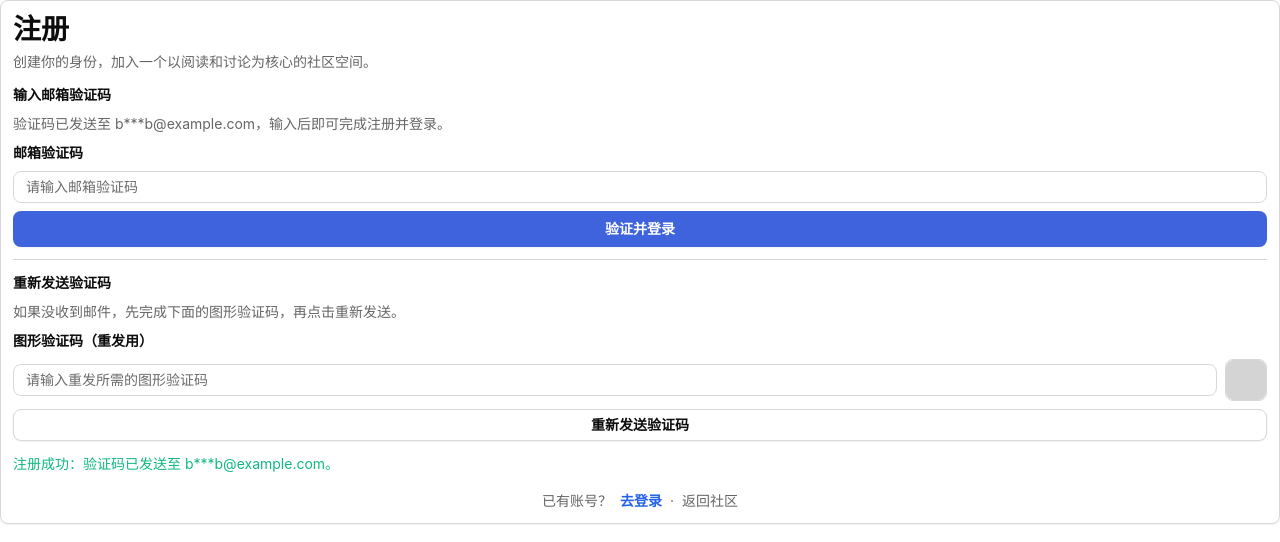
RegisterView › re-enables the verify and resend buttons when session restore reports anonymous
Type "123456" into the field with placeholder "请输入邮箱验证码". click: (640, 187)
box: [13, 171, 1267, 203]
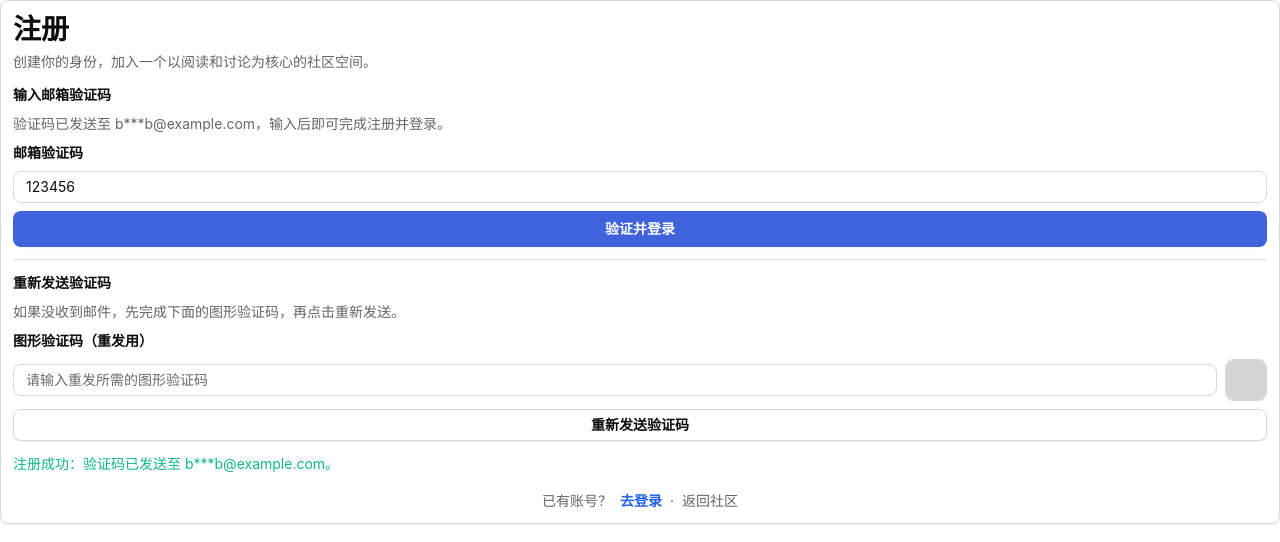
Click the button with class "auth-submit-btn". click: (640, 229)
box: [13, 211, 1267, 247]
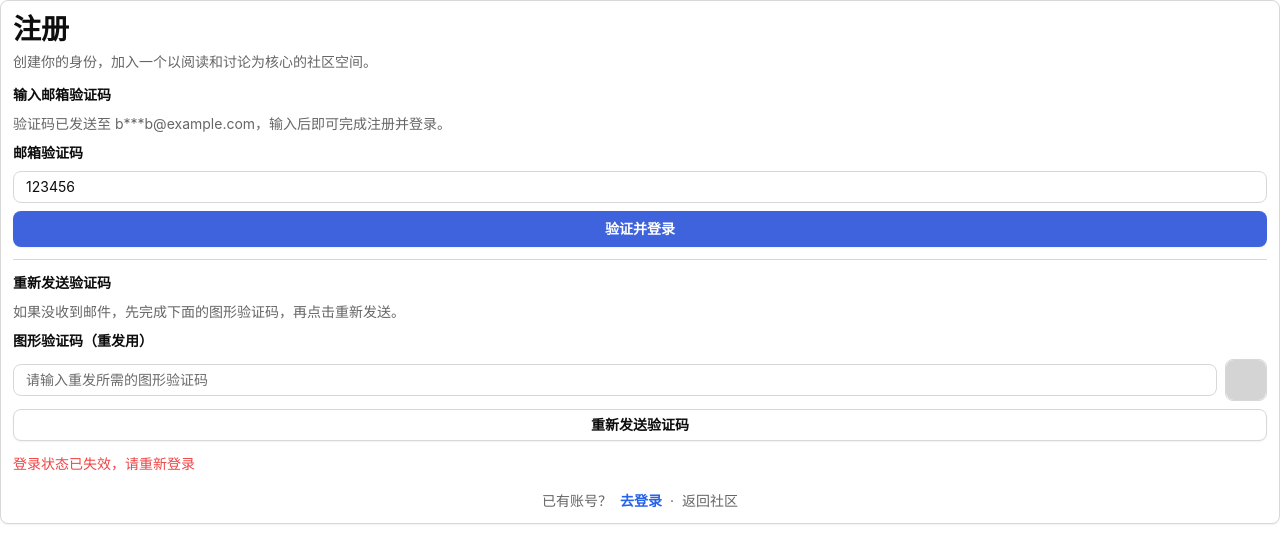
Check: the button "重新发送验证码" is enabled, box [13, 409, 1267, 441]
Check: the text "登录状态已失效，请重新登录" is shown, box [13, 455, 195, 472]
